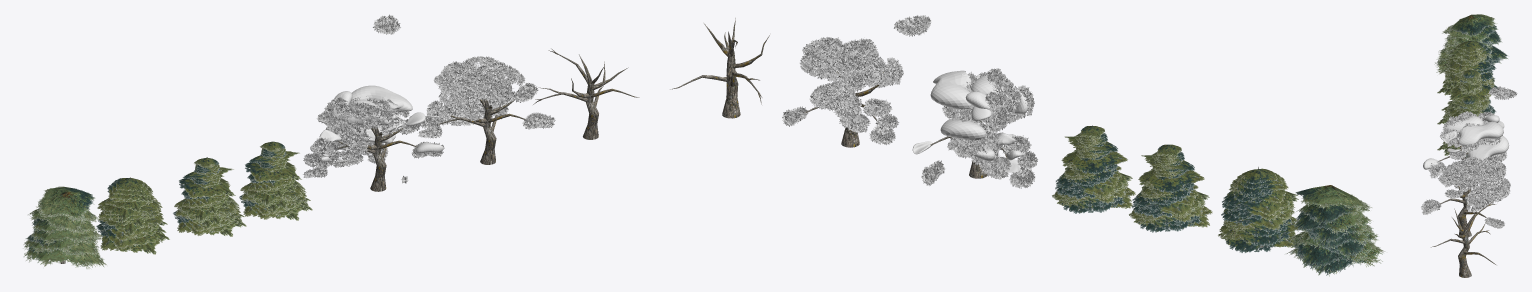
File: tree variants.fbx
The picture shows the model from 3 angles, left to right: view 1: azimuth 30°, elevation 25°; view 2: azimuth 150°, elevation 25°; view 3: azimuth 270°, elevation 25°; orthographic projection. The views are drawn at different scales.
Parts seen in each view (by area): view 1: TreeFullA, spruceA, Leaf05, spruceB, spruceB.001, spruceB.003, treeA, Sphere.013, spruceB.016, seperateLeaves, Sphere.012; view 2: TreeFullA, spruceA, Leaf05, spruceB, spruceB.001, spruceB.003, Sphere.013, spruceB.016, Sphere.014, seperateLeaves; view 3: TreeFullA, spruceA, spruceB, spruceB.001, Leaf05, Sphere.013, spruceB.003, Sphere.014, spruceB.016, Sphere.012, seperateLeaves, Sphere.010 (+5 smaller).
Boxes of the visible parts, x1,y1,x2,y2 form: TreeFullA: (418,56,555,164); spruceA: (23,186,106,269); Leaf05: (303,96,444,178); spruceB: (96,177,169,254); spruceB.001: (173,157,246,236); spruceB.003: (239,141,312,220); treeA: (338,125,417,191); Sphere.013: (351,85,412,112); spruceB.016: (579,54,598,139); seperateLeaves: (373,14,400,34); Sphere.012: (344,99,390,125); TreeFullA: (782,37,903,147); spruceA: (1286,185,1385,276); Leaf05: (921,68,1037,188); spruceB: (1218,167,1298,252); spruceB.001: (1129,144,1212,232); spruceB.003: (1052,126,1135,213); Sphere.013: (930,70,972,111); spruceB.016: (722,31,740,118); Sphere.014: (940,118,986,140); seperateLeaves: (894,15,931,36); TreeFullA: (1421,156,1510,237); spruceA: (1434,14,1508,74); spruceB: (1437,40,1497,96); spruceB.001: (1437,70,1496,124); Leaf05: (1428,111,1507,178); Sphere.013: (1458,121,1503,145); spruceB.003: (1437,96,1487,155); Sphere.014: (1467,135,1509,161); spruceB.016: (1458,211,1476,277); Sphere.012: (1444,116,1483,132); seperateLeaves: (1488,86,1517,99); Sphere.010: (1440,131,1457,143).
Size of the model in its own units: 922 by 217 by 163.
